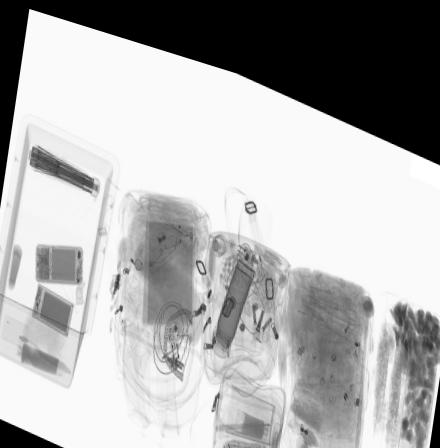Powerbank: (29, 280, 74, 335)
